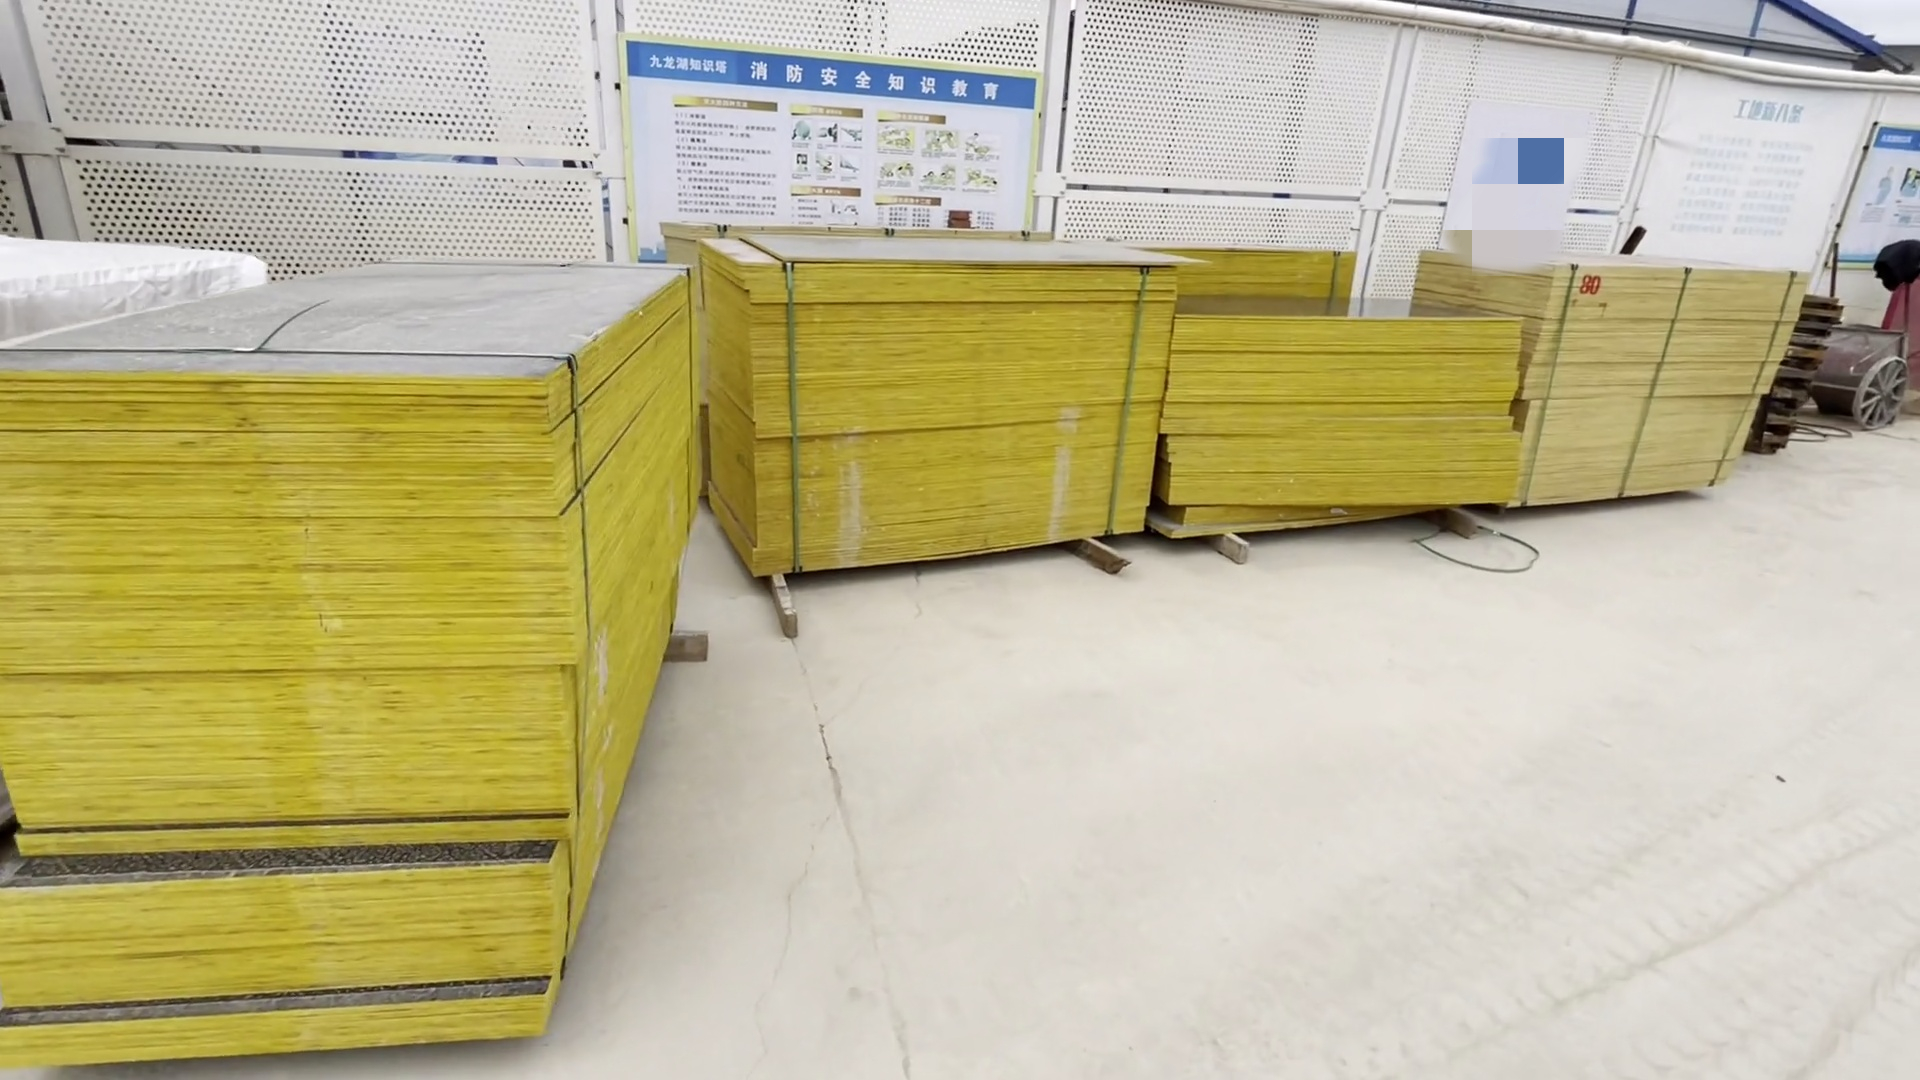board: (1, 285, 634, 1072), (731, 235, 1817, 615)
handcart: (1815, 243, 1912, 446)
